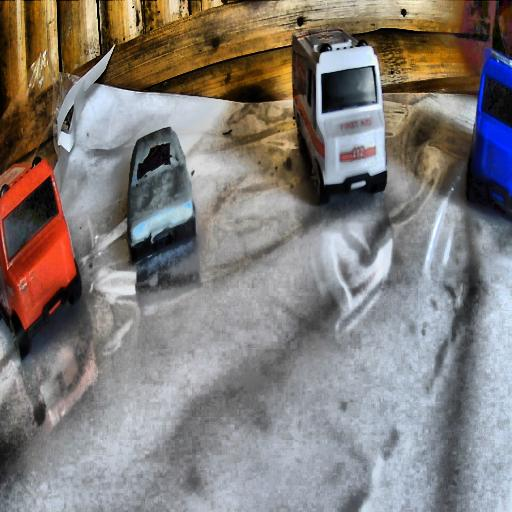ambulance: (291, 23, 388, 205)
fire_truck: (0, 154, 83, 361)
normal_car: (126, 125, 196, 264)
police car: (464, 44, 512, 226)
